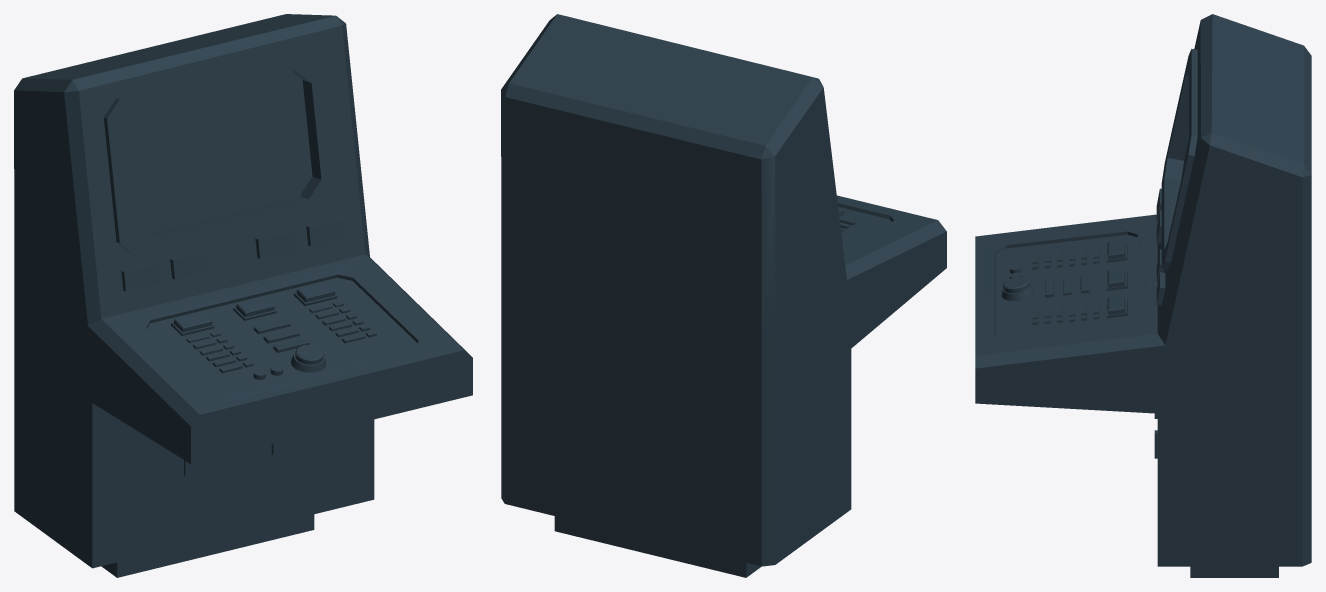
The model's file is _achine.FBX.
3 views of the same model, side by side, from view 1: azimuth 30°, elevation 25°; view 2: azimuth 150°, elevation 25°; view 3: azimuth 270°, elevation 25° (orthographic). The views are drawn at different scales.
Visible parts, largest first — view 1: bouton_robot2; view 2: bouton_robot2; view 3: bouton_robot2.
Part boxes in pixels (x1=…): bouton_robot2: x1=14, y1=14, x2=472, y2=577; bouton_robot2: x1=501, y1=14, x2=946, y2=577; bouton_robot2: x1=975, y1=14, x2=1311, y2=577.
Size of the model in its own units: 124 by 209 by 138.
